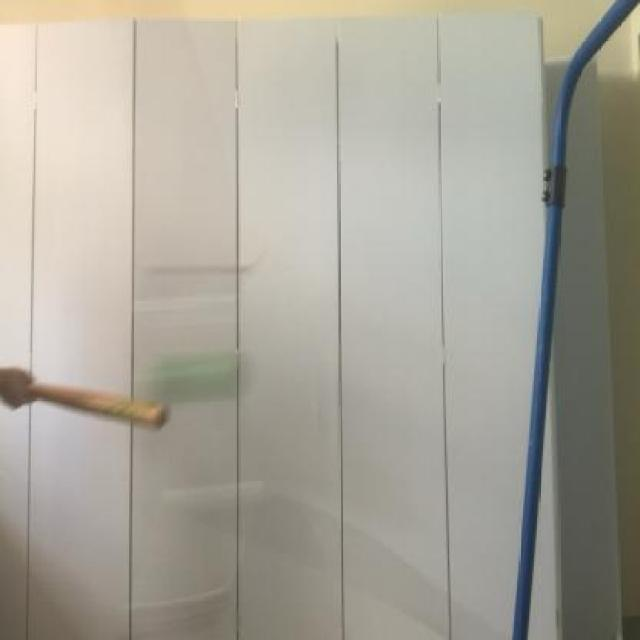baseball: (130, 338, 264, 420)
